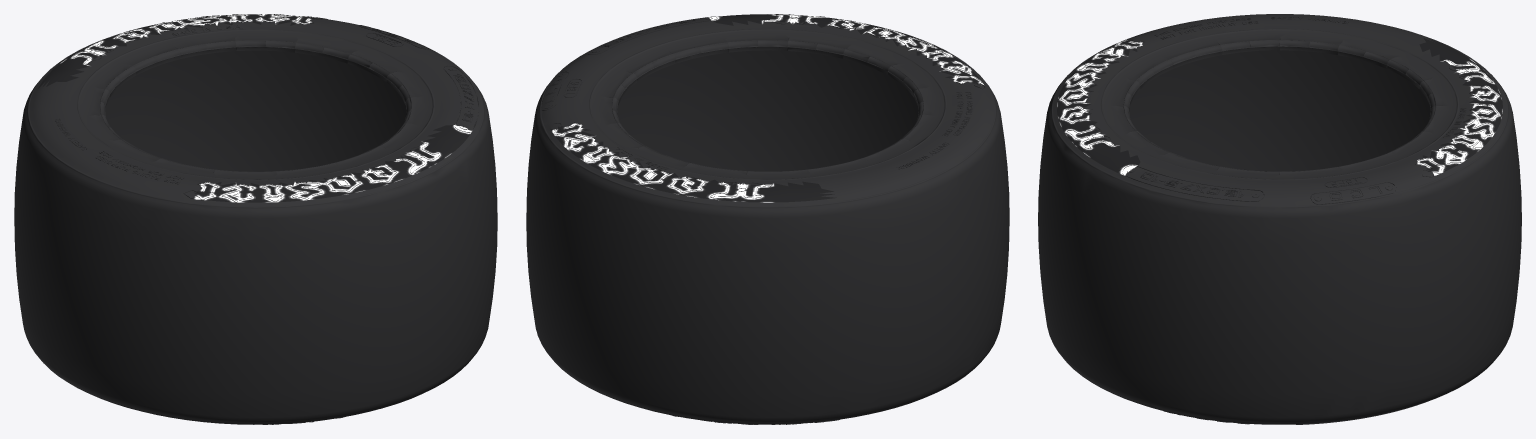
Rendered from tire-hoosier-step.a14659cc7a8e.glb.
3 views of the same model, side by side, from view 1: azimuth 30°, elevation 25°; view 2: azimuth 150°, elevation 25°; view 3: azimuth 270°, elevation 25° (orthographic).
Visible parts, largest first — view 1: Hoosier 16x7.5-10 LC0; view 2: Hoosier 16x7.5-10 LC0; view 3: Hoosier 16x7.5-10 LC0.
Part boxes in pixels (x1,y1,x2,y2): Hoosier 16x7.5-10 LC0: (14, 14, 497, 424); Hoosier 16x7.5-10 LC0: (526, 14, 1009, 424); Hoosier 16x7.5-10 LC0: (1038, 14, 1521, 424).
Bounding box in the file's own units: 0.4061 × 0.2158 × 0.4064.
Materials: 2 (1 with a texture image).
